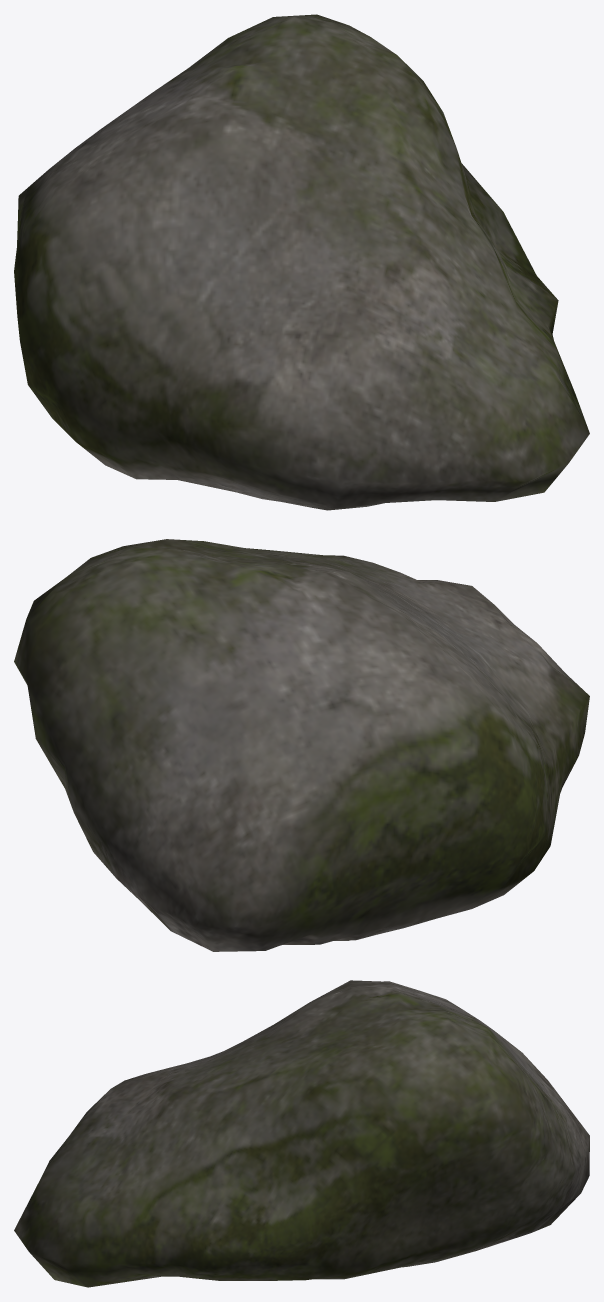
File: rock6.glb
3 views of the same model, one above another, from view 1: azimuth 30°, elevation 25°; view 2: azimuth 150°, elevation 25°; view 3: azimuth 270°, elevation 25° (orthographic). The views are drawn at different scales.
Parts seen in each view (by area): view 1: rock6_low_rocks_texture_0; view 2: rock6_low_rocks_texture_0; view 3: rock6_low_rocks_texture_0.
Boxes of the visible parts, bbox=[...] form: rock6_low_rocks_texture_0: bbox=[14, 14, 589, 510]; rock6_low_rocks_texture_0: bbox=[14, 539, 589, 951]; rock6_low_rocks_texture_0: bbox=[14, 980, 589, 1287].
Bounding box in the file's own units: 0.8823 × 0.6354 × 1.16.
1 material, 1 textured.
